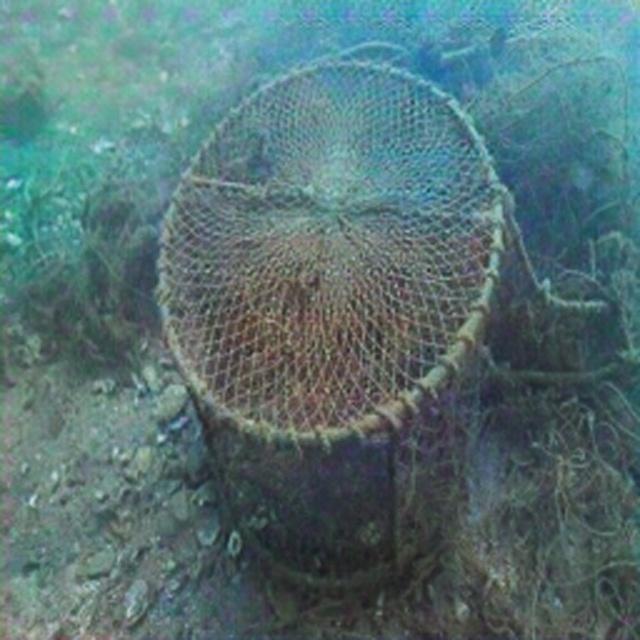mine: (155, 55, 505, 596)
